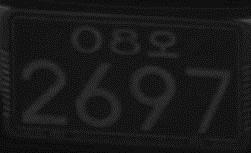0: (70, 25, 102, 53)
2: (20, 59, 68, 124)
6: (75, 62, 122, 128)
7: (184, 66, 230, 135)
8: (109, 26, 140, 55)
9: (128, 64, 177, 133)
오: (145, 28, 177, 57)
